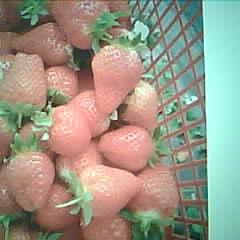straw-ripe: (92, 46, 142, 113), (79, 168, 144, 216), (8, 154, 54, 211)
